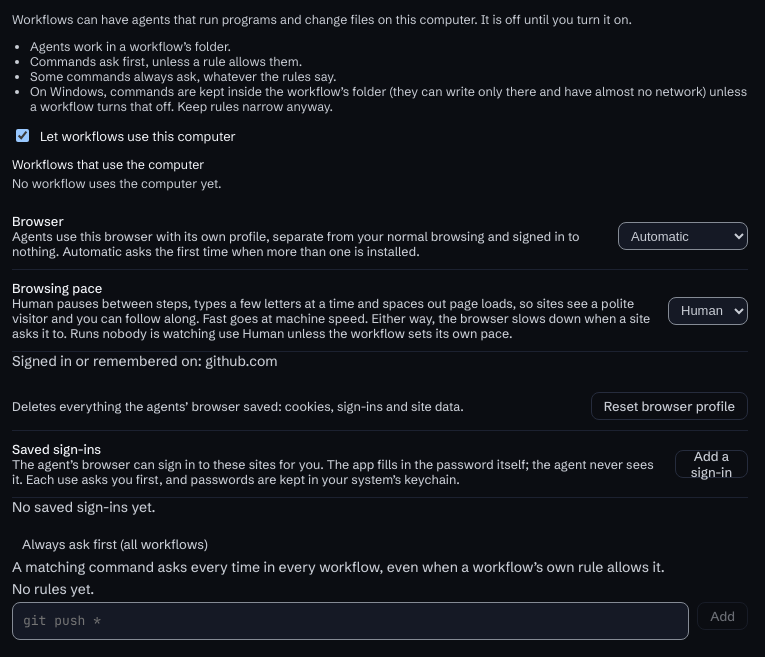
Test: ComputerSection › browser › reads the sites again after a reset
Expected: the text "Signed in or remembered on: github.com" is shown, left=12, top=352, right=278, bottom=370
Click the button "Reset browser profile".
click(669, 406)  # box left=591, top=392, right=748, bottom=420
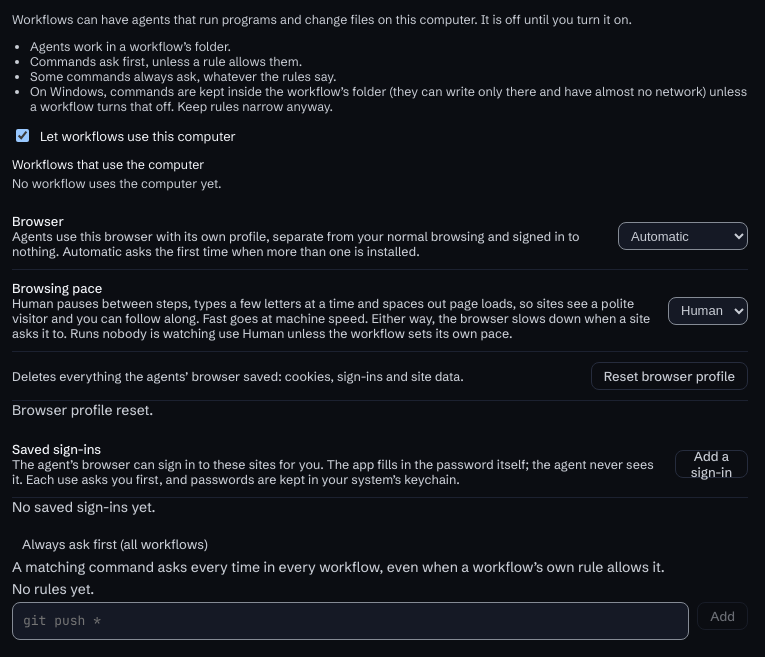
Expected: the text "Browser profile reset." is shown, left=12, top=401, right=153, bottom=419
Expected: the text "Signed in or remembered on" is gone
